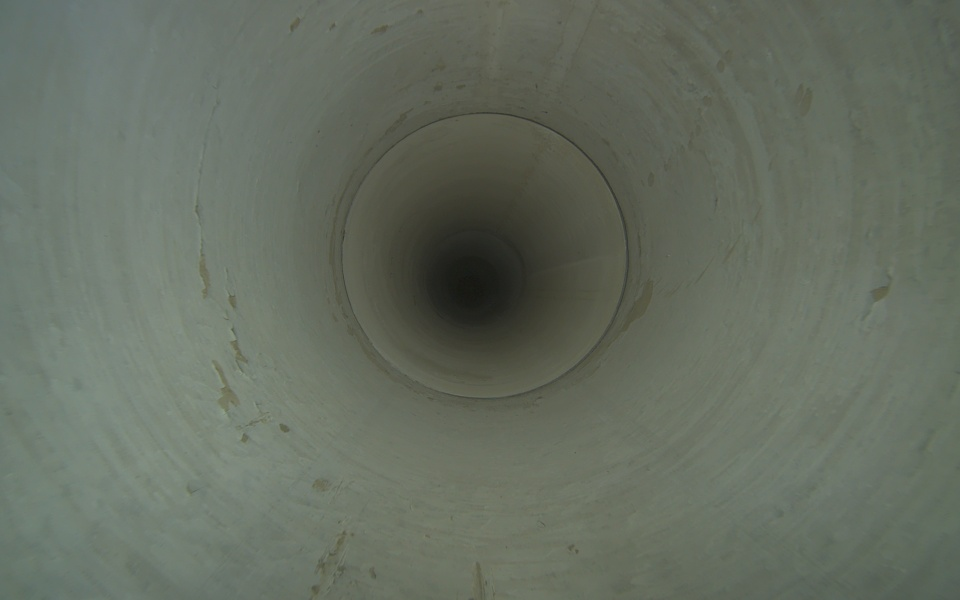circle1: (337, 110, 633, 402)
circle2: (455, 270, 490, 308)
